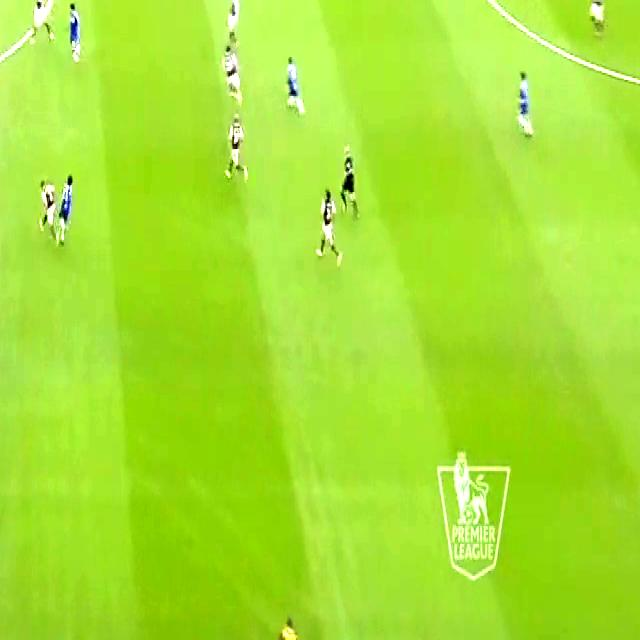referee: (332, 136, 362, 234)
soccer-player: (314, 171, 344, 274), (46, 162, 80, 251), (282, 46, 313, 126), (512, 59, 539, 149), (223, 110, 252, 192), (60, 0, 85, 75), (224, 37, 247, 116), (28, 0, 54, 55), (224, 0, 245, 60), (583, 0, 609, 41)
